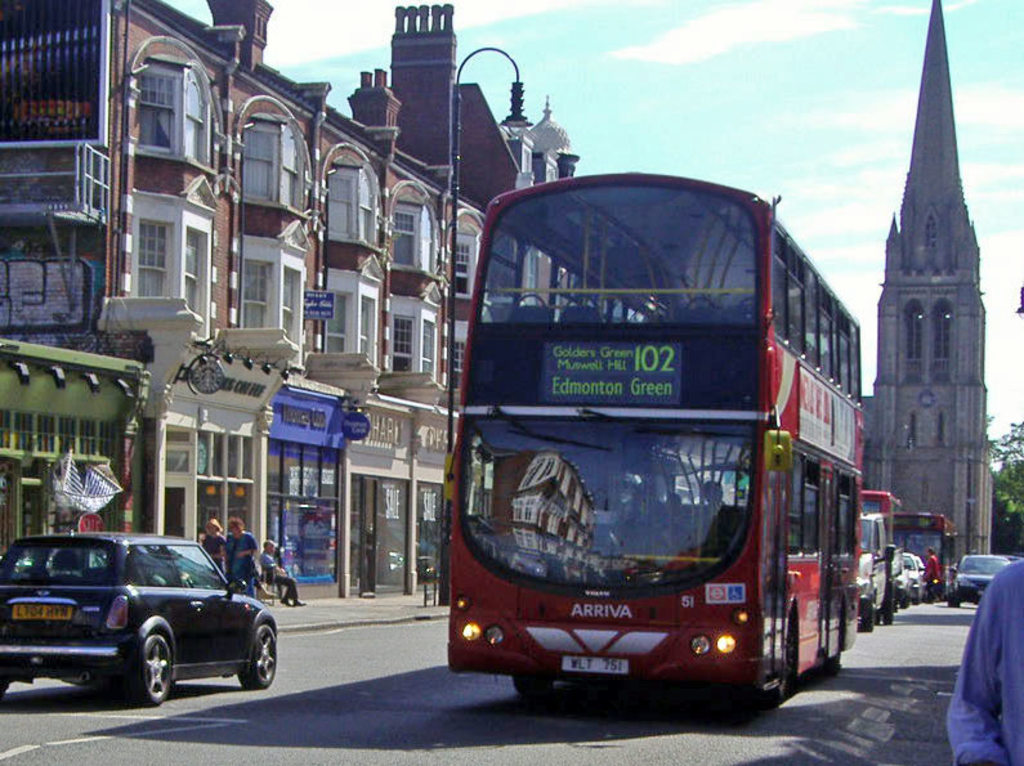Car: (0, 529, 279, 704), (896, 551, 1022, 611)
